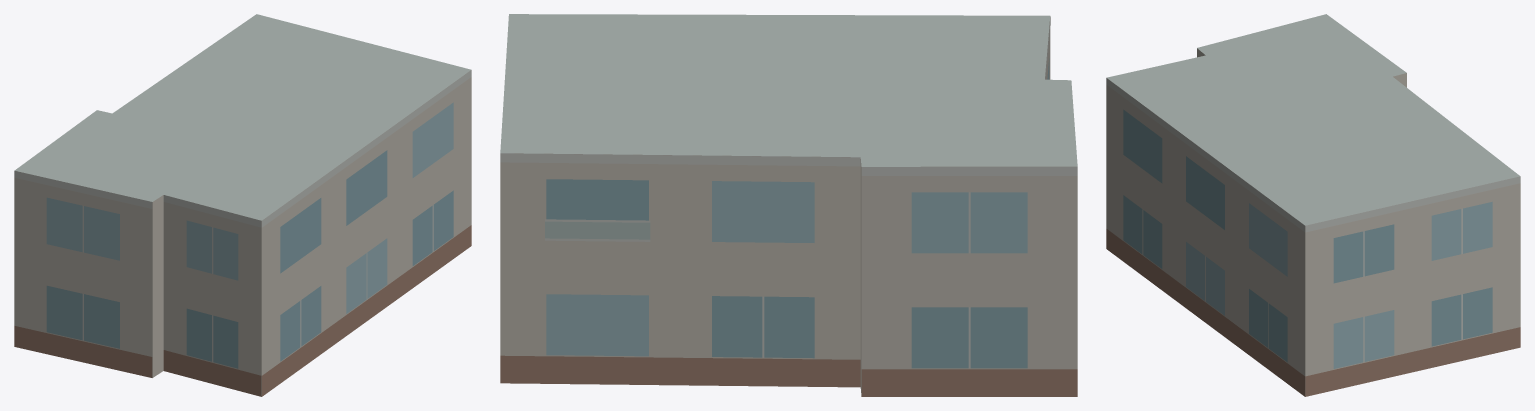
The model's file is survey-upis-32870811.glb.
3 views of the same model, side by side, from view 1: azimuth 30°, elevation 25°; view 2: azimuth 150°, elevation 25°; view 3: azimuth 270°, elevation 25° (orthographic). The views are drawn at different scales.
Visible parts, largest first — view 1: survey-upis-32870811.tmp; view 2: survey-upis-32870811.tmp; view 3: survey-upis-32870811.tmp.
Boxes of the visible parts, box(x1,y1,x2,y2) form: survey-upis-32870811.tmp: box(14, 14, 471, 396); survey-upis-32870811.tmp: box(500, 14, 1077, 396); survey-upis-32870811.tmp: box(1106, 14, 1520, 396).
Bounding box in the file's own units: 16.19 × 6.1 × 13.39.
